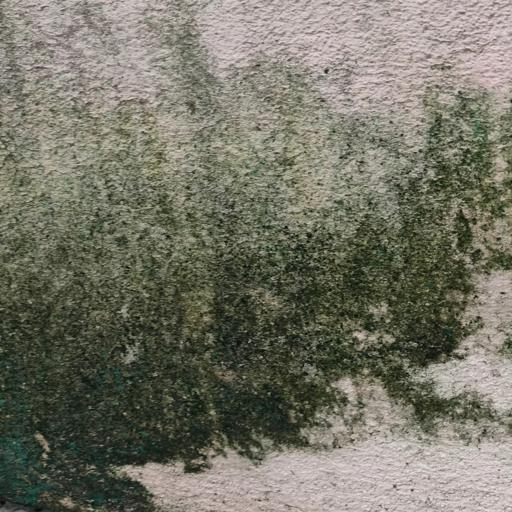algae: (4, 4, 509, 459)
